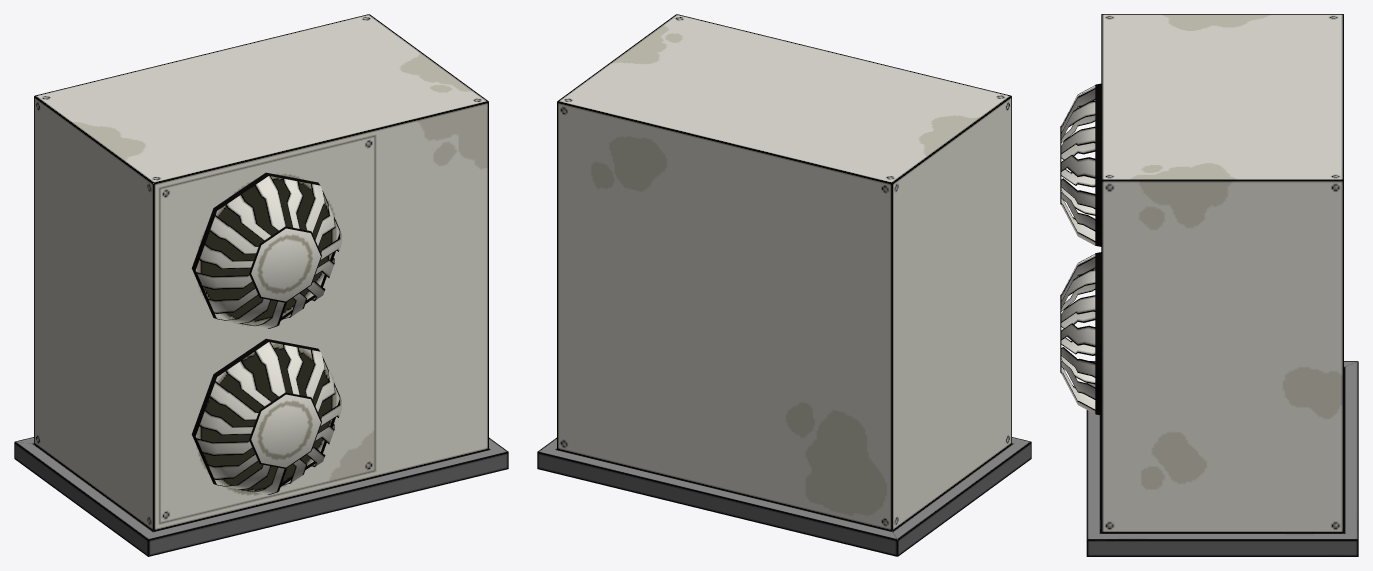
File: Prop_Ventilador_Azotea.fbx
3 views of the same model, side by side, from view 1: azimuth 30°, elevation 25°; view 2: azimuth 150°, elevation 25°; view 3: azimuth 270°, elevation 25° (orthographic).
Parts seen in each view (by area): view 1: Sphere.001; view 2: Sphere.001; view 3: Sphere.001.
Part boxes in pixels (box(x1,y1,x2,y2)): Sphere.001: box(14, 14, 508, 556); Sphere.001: box(537, 14, 1031, 556); Sphere.001: box(1060, 14, 1358, 556).
Bounding box in the file's own units: 4.01 × 3.88 × 2.83.
